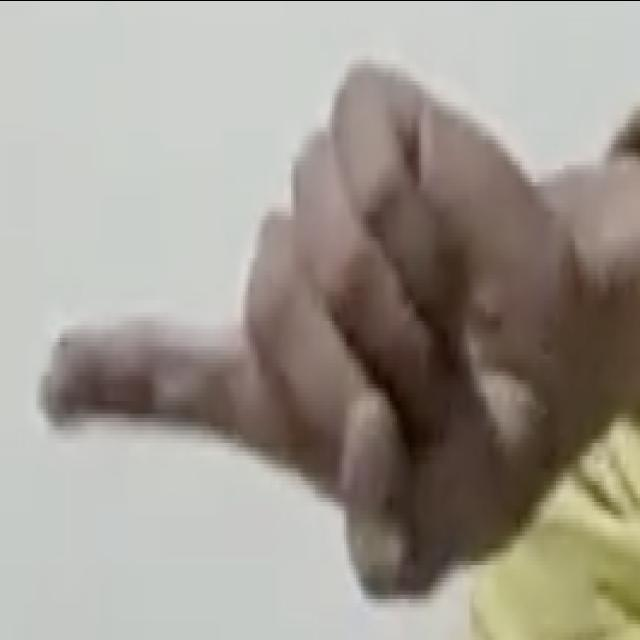Z: (24, 60, 597, 620)
